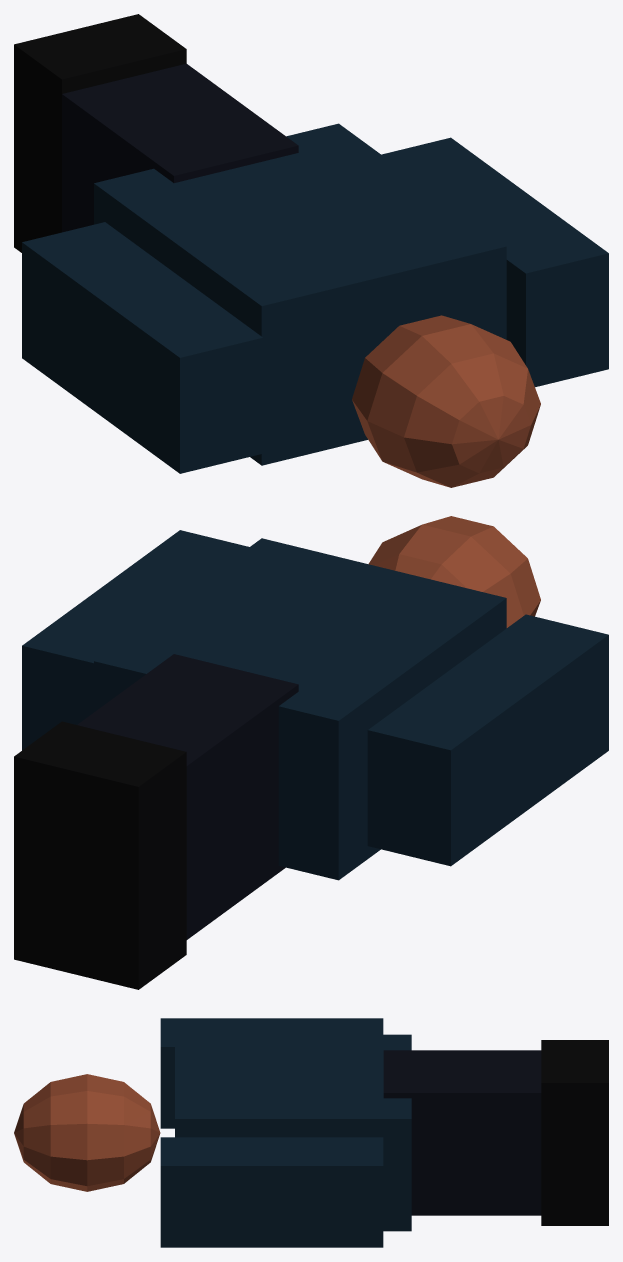
The model's file is RexMale.obj.
3 views of the same model, one above another, from view 1: azimuth 30°, elevation 25°; view 2: azimuth 150°, elevation 25°; view 3: azimuth 270°, elevation 25° (orthographic). The views are drawn at different scales.
Visible parts, largest first — view 1: RexMale; view 2: RexMale; view 3: RexMale.
Boxes of the visible parts, x1,y1,x2,y2 form: RexMale: (14, 14, 608, 487); RexMale: (14, 516, 608, 989); RexMale: (14, 1018, 608, 1247).
Size of the model in its own units: 1.24 by 0.56 by 2.11.
